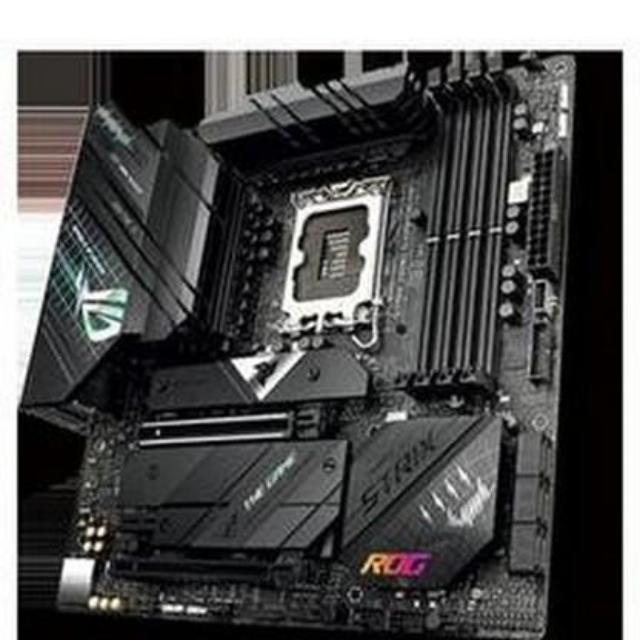Mainboard: (63, 82, 566, 640)
